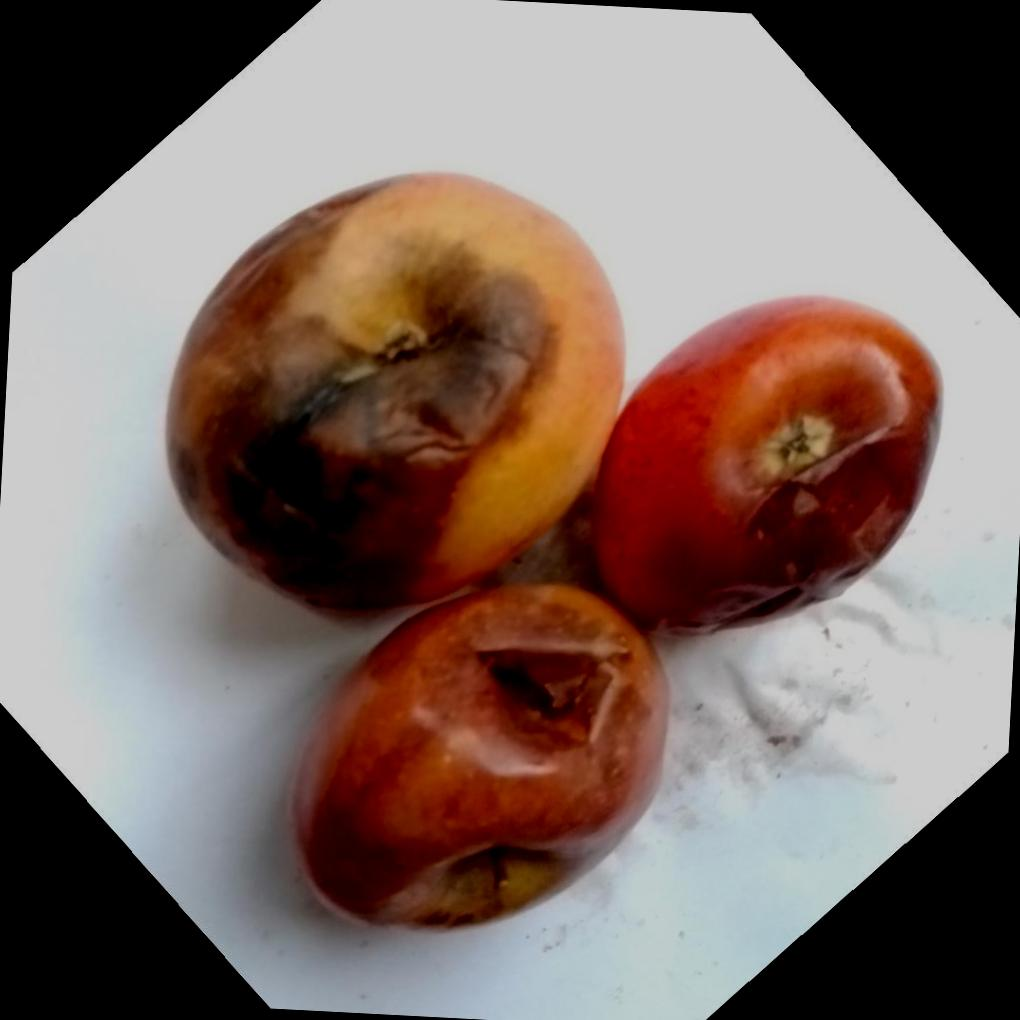FreshOrange: (165, 171, 941, 932)
